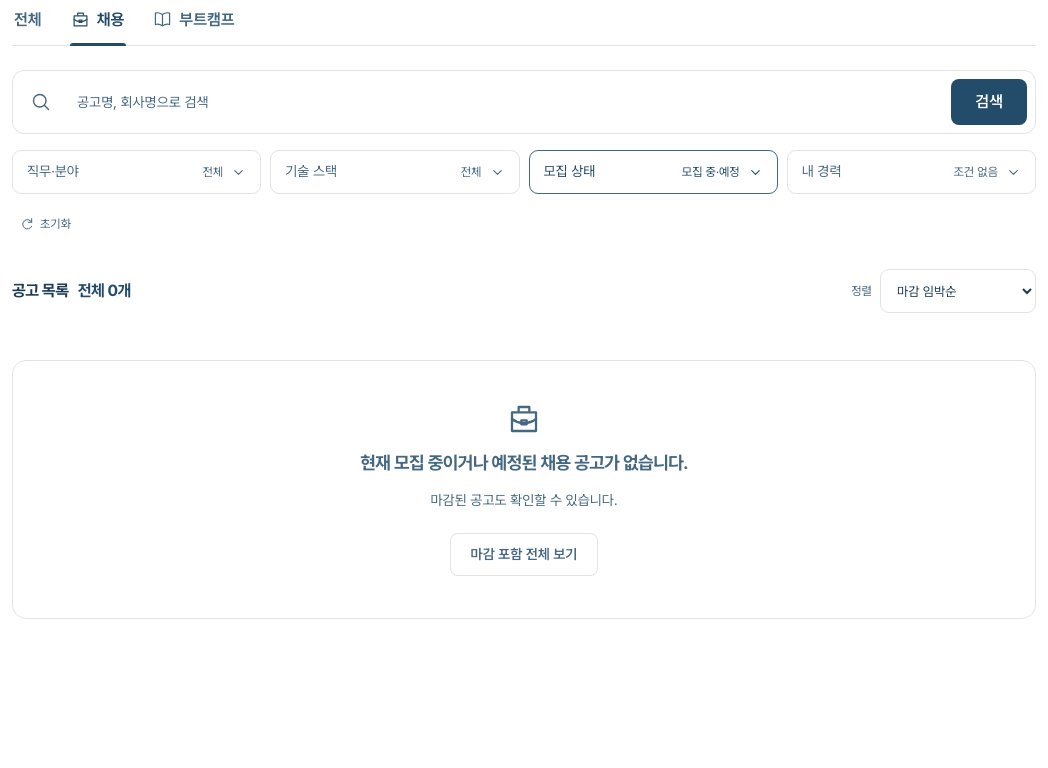
Test: 필터 선택은 URL에 저장되고 개별 해제·뒤로 가기는 목록을 첫 페이지부터 복원한다
Click the button with aria-label "기술 스택": point(395, 172) [270,150,520,194]
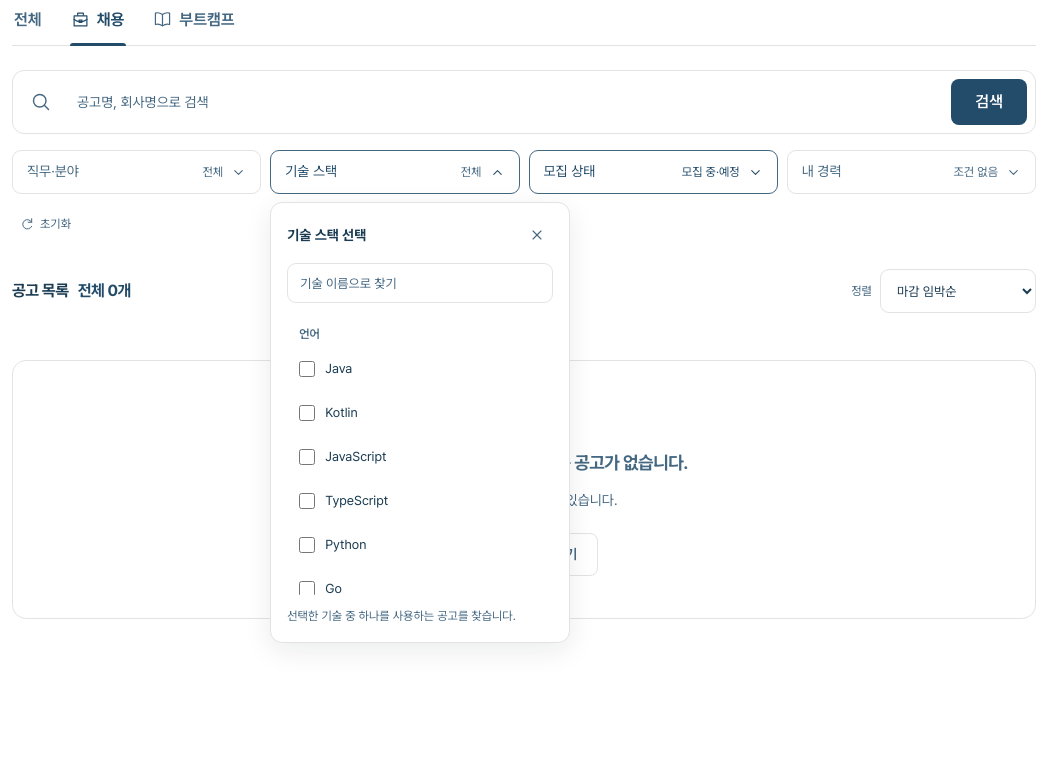
Click the checkbox labelled "Java": point(307, 369) [299,361,315,377]
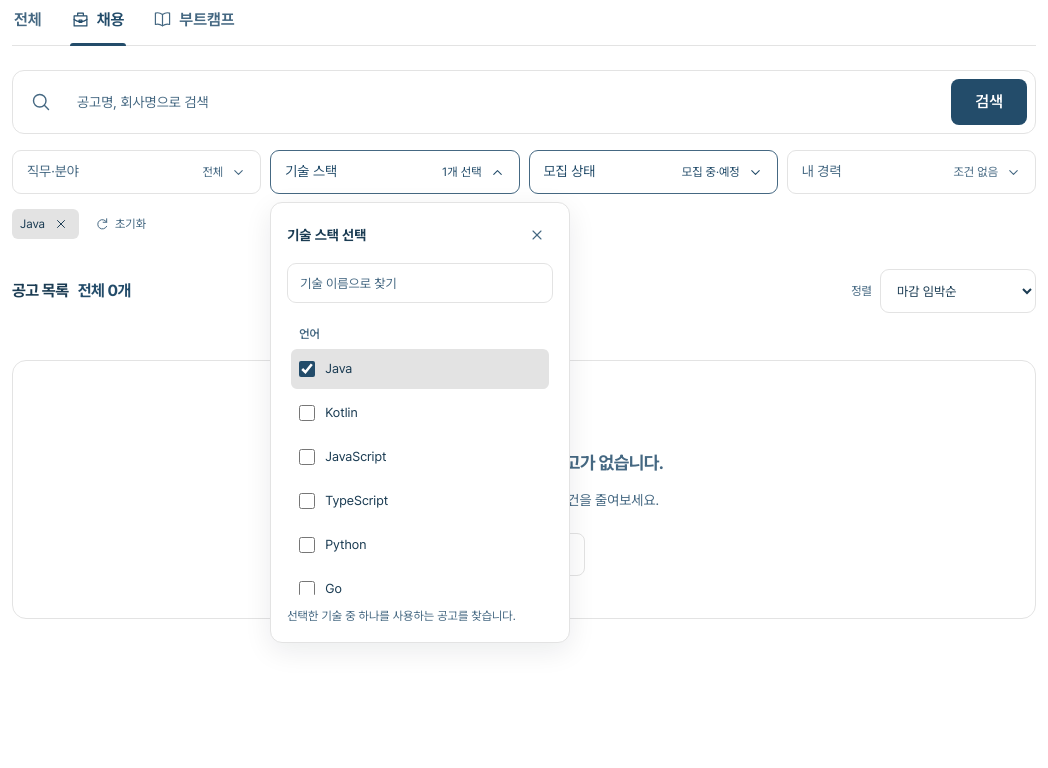
Click the button named "Java 조건 해제": point(61, 224) [51,214,71,234]
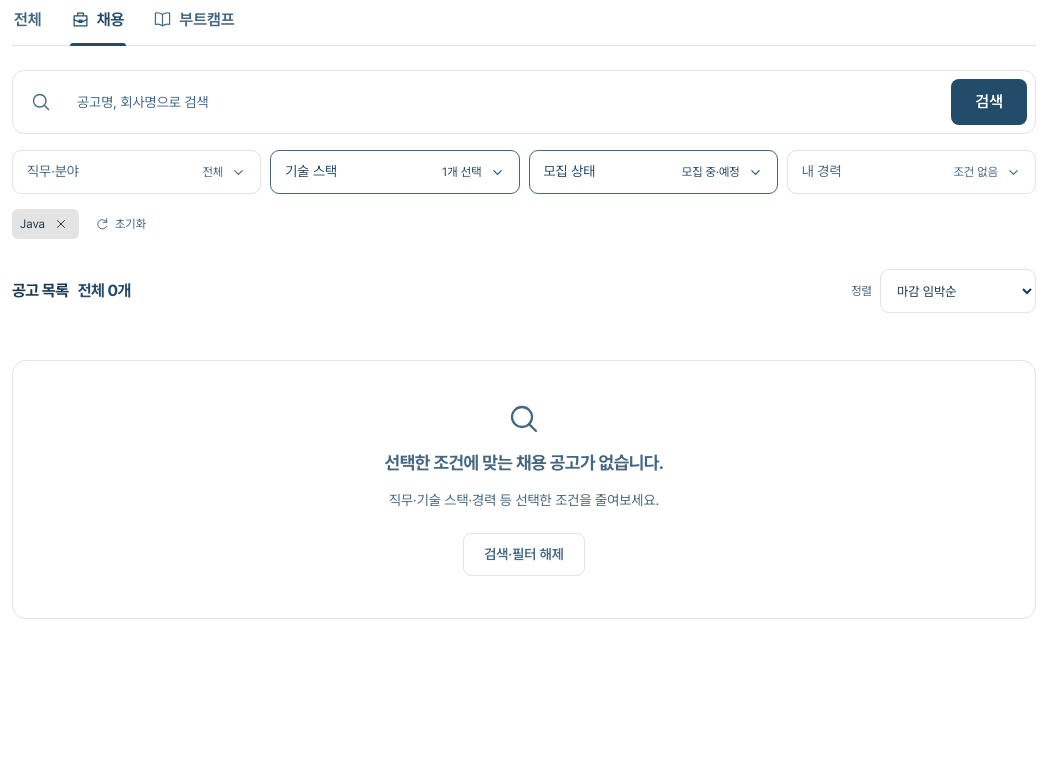
Click the button with aria-label "기술 스택": point(395, 172) [270,150,520,194]
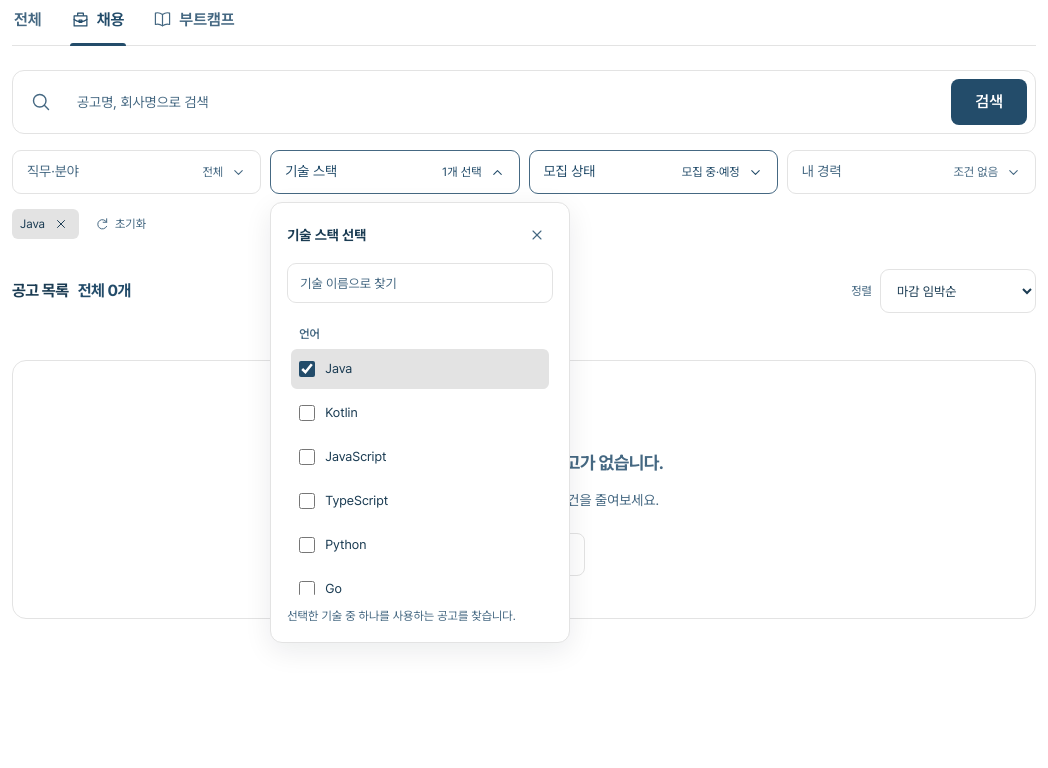
Check: the checkbox labelled "Java" is checked, box [299,361,315,377]
